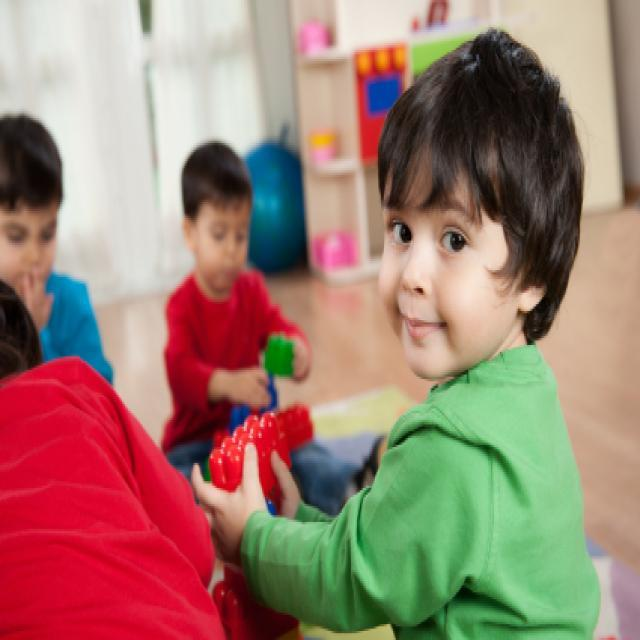non-dog: (193, 25, 601, 640), (0, 276, 233, 640), (163, 145, 383, 521), (0, 114, 115, 386)
